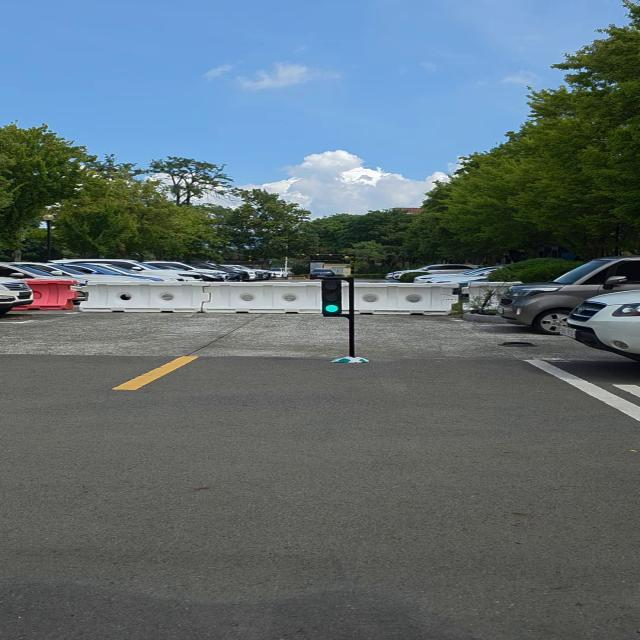green: (317, 277, 347, 318)
